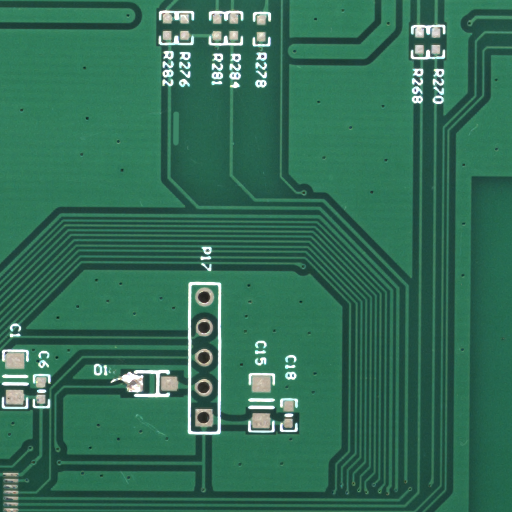Spurious_copper: (176, 128, 183, 163)
